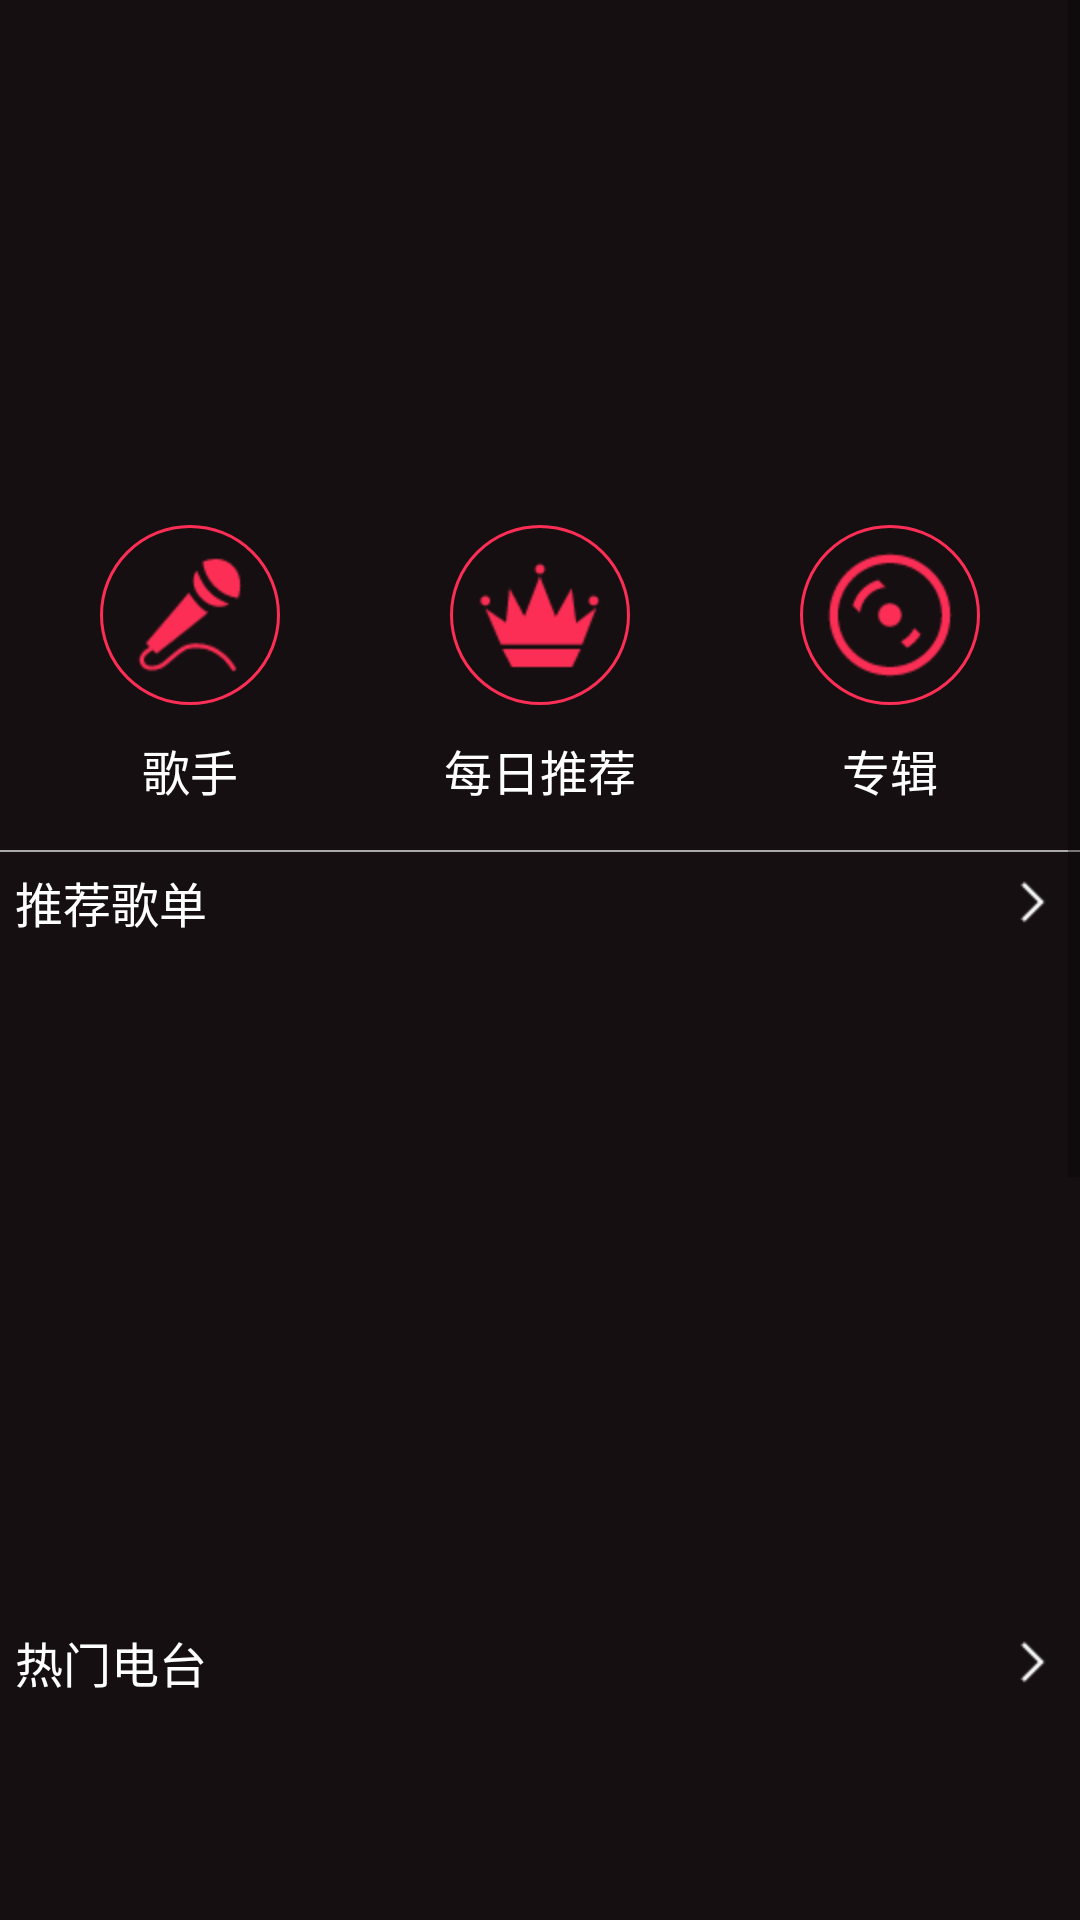

Screen size 1080px x 1920px. Icon name, then its box in pixels as bbox=(x1, y1, x2, y2):
huatong: bbox=(100, 525, 280, 705)
